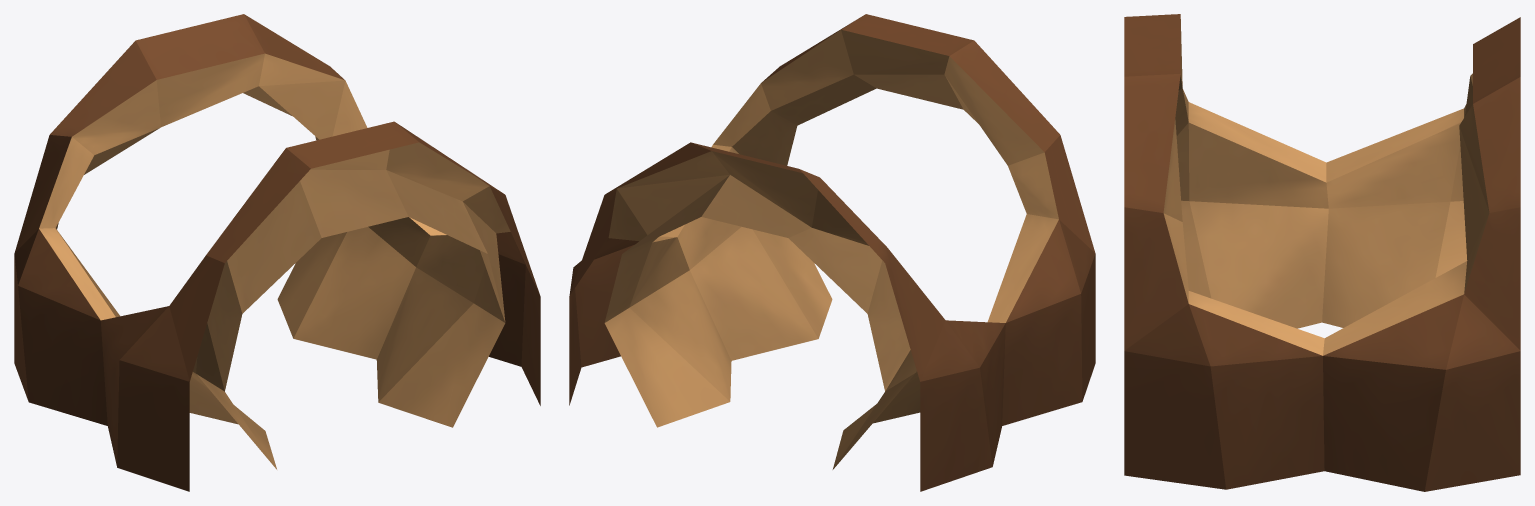
File: Tronc_Perce_Trou3.FBX
3 views of the same model, side by side, from view 1: azimuth 30°, elevation 25°; view 2: azimuth 150°, elevation 25°; view 3: azimuth 270°, elevation 25° (orthographic). The views are drawn at different scales.
Parts seen in each view (by area): view 1: TronPerce_Trou3; view 2: TronPerce_Trou3; view 3: TronPerce_Trou3.
Part boxes in pixels (bbox=[...]): TronPerce_Trou3: bbox=[14, 14, 540, 491]; TronPerce_Trou3: bbox=[569, 14, 1095, 491]; TronPerce_Trou3: bbox=[1124, 14, 1520, 491].
Bounding box in the file's own units: 2.34 × 1.61 × 1.73.
